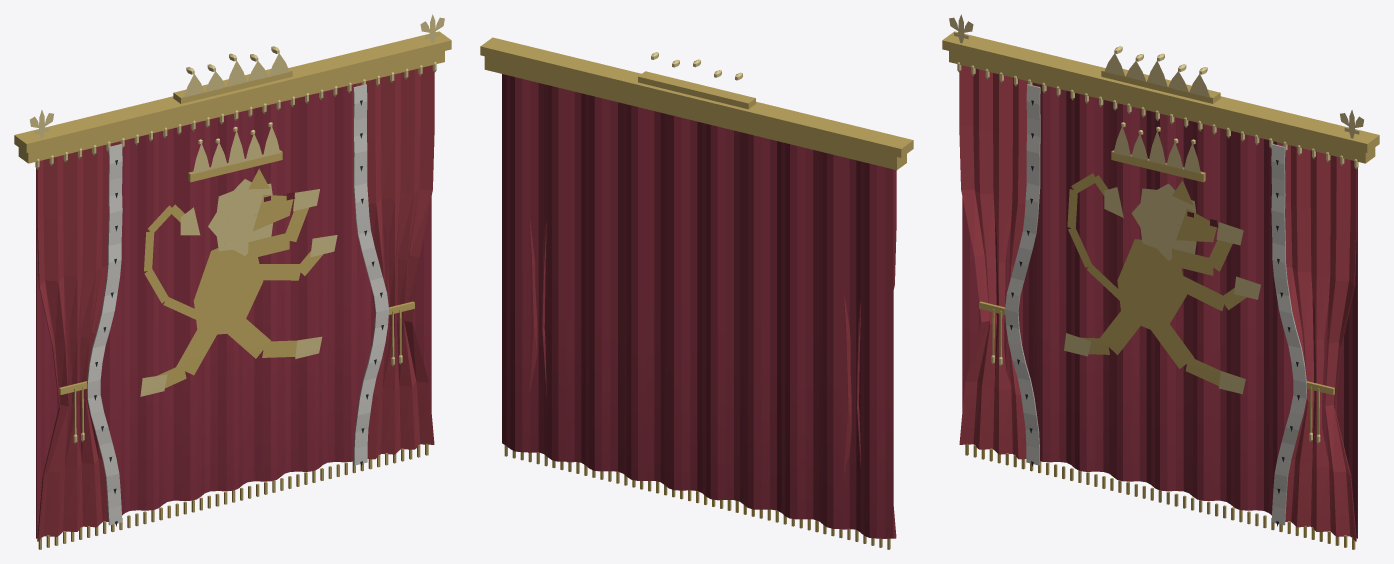
Rendered from palace_cloth_of_state_grand.glb.
3 renders of one model, left to right at view 1: azimuth 30°, elevation 25°; view 2: azimuth 150°, elevation 25°; view 3: azimuth 330°, elevation 25°, orthographic.
Parts seen in each view (by area): view 1: palace_cloth_of_state_grand; view 2: palace_cloth_of_state_grand; view 3: palace_cloth_of_state_grand.
Part boxes in pixels (<box>): palace_cloth_of_state_grand: <box>14,14,451,549</box>; palace_cloth_of_state_grand: <box>480,37,913,549</box>; palace_cloth_of_state_grand: <box>942,14,1379,549</box>.
Size of the model in its own units: 3.96 by 3.98 by 0.2.
